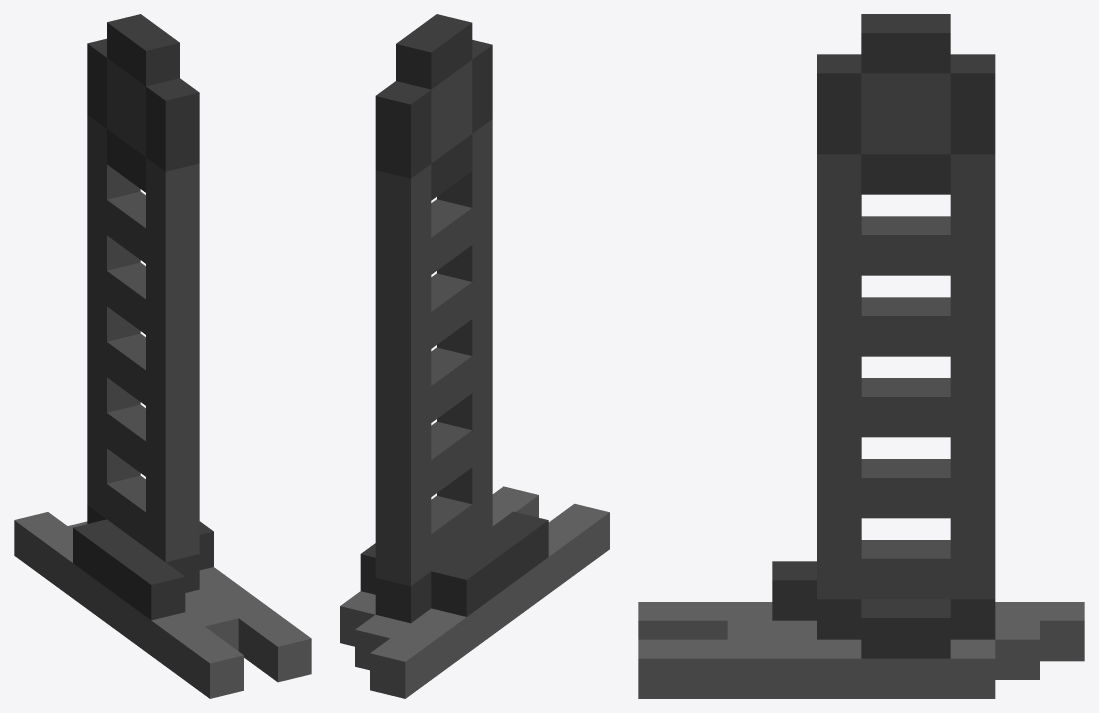
The model's file is Robot Normal-0.obj.
3 views of the same model, side by side, from view 1: azimuth 30°, elevation 25°; view 2: azimuth 150°, elevation 25°; view 3: azimuth 270°, elevation 25° (orthographic). The views are drawn at different scales.
Bounding box in the file's own units: 0.3 × 1.6 × 1.
Materials: 1 (1 with a texture image).
